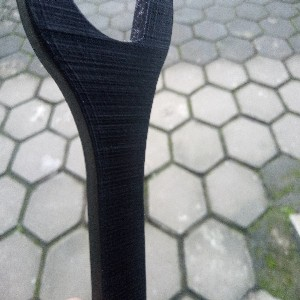spanner: (14, 1, 175, 300)
